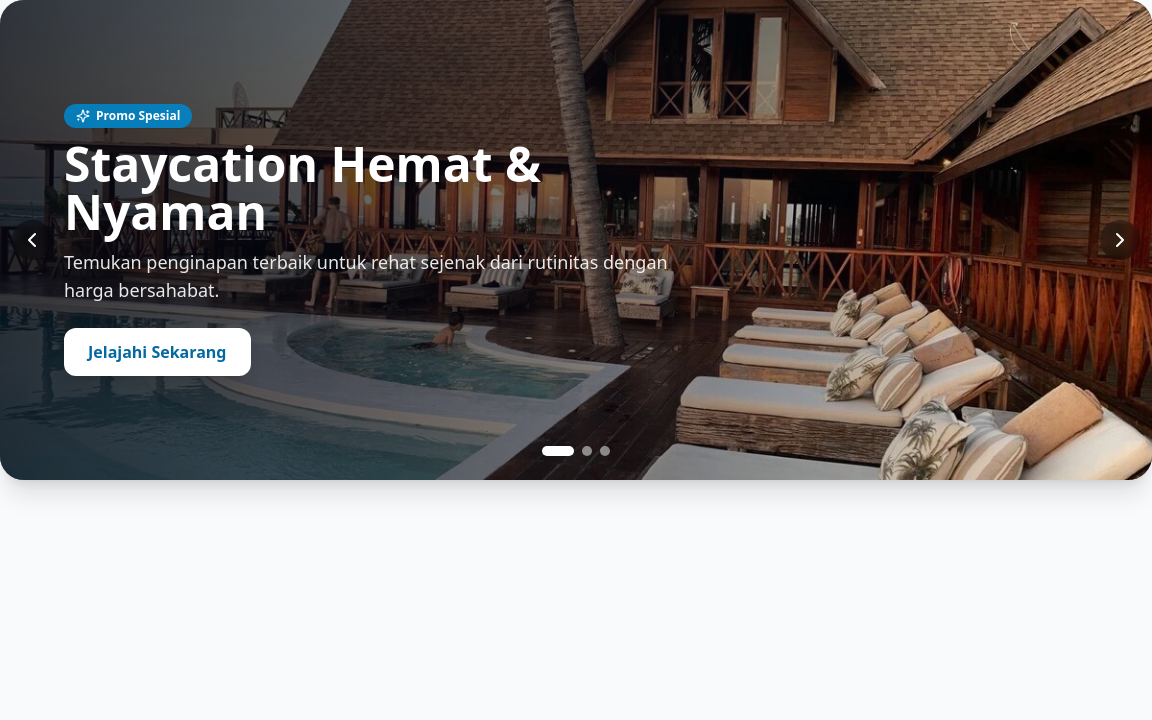
Test: HeroCarousel Organism › jumps to specific slide when indicator dot is clicked
The width and height of the screenshot is (1152, 720).
Click the button named "Pindah ke slide 3": (605, 451) [600,446,610,456]
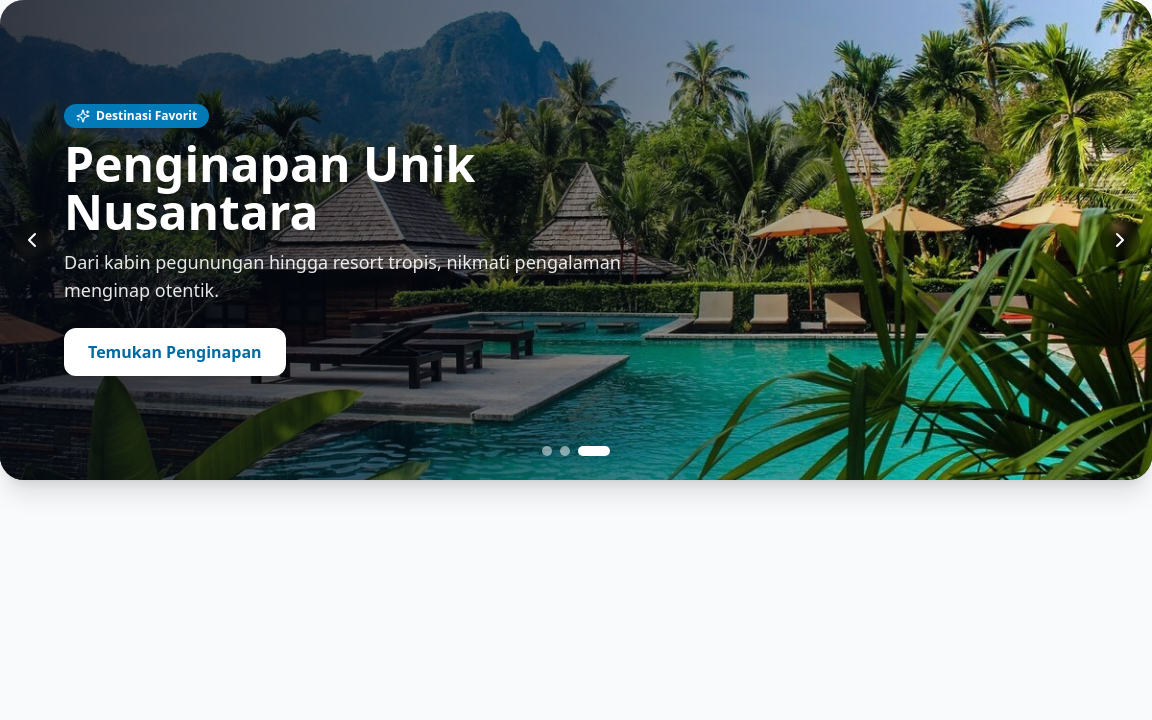
Result: the heading "Penginapan Unik Nusantara" is shown at [64,131,475,244]
Result: the text "Destinasi Favorit" is shown at [96,108,197,124]
